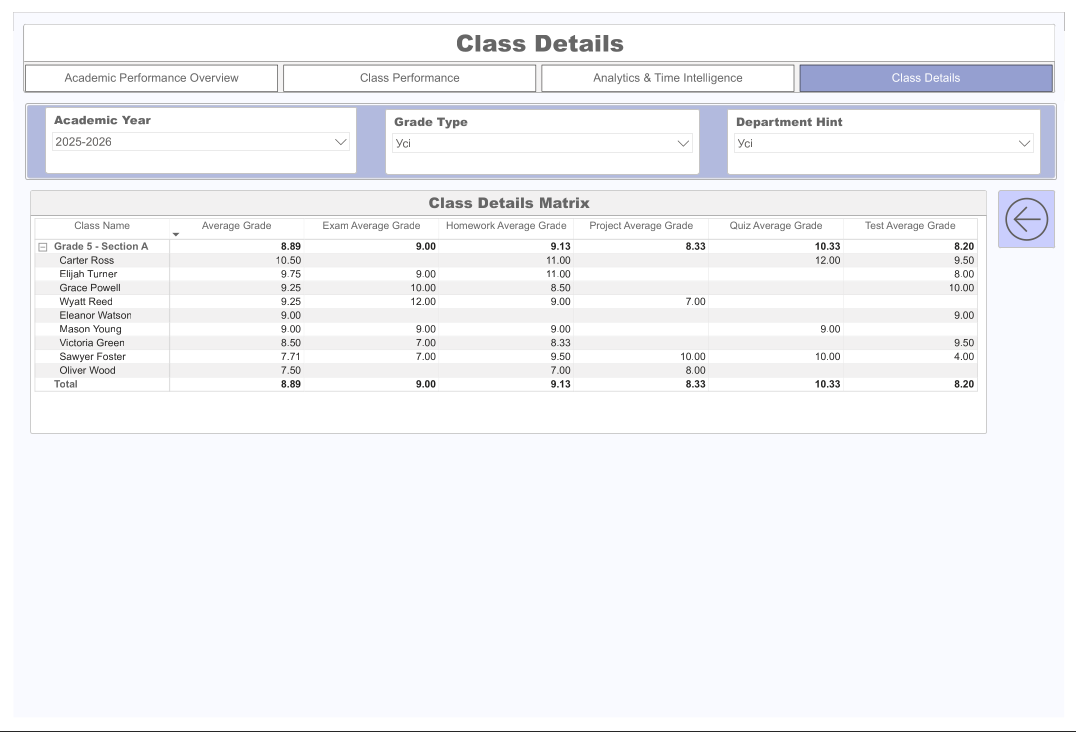

The page's visual inventory and layout, read from the dashboard file:
{"tool":"powerbi","page":{"name":"Class Details","canvas":[1910,1280],"ordinal":3},"visuals":[{"type":"pivotTable","title":"Class Details Matrix","fields":{"Rows":["classes.class_name","students.student_name"],"Values":["_Measures.Average Grade","_Measures.Exam Average Grade","_Measures.Homework Average Grade","_Measures.Project Average Grade","_Measures.Quiz Average Grade","_Measures.Test Average Grade"]},"box":[30.8,323.1,1738.5,442.3],"z":0},{"type":"actionButton","box":[1790,322.5,102.5,105],"z":1000},{"type":"pageNavigator","title":"Class Details","box":[19.2,21.2,1874,125],"z":2000},{"type":"shape","box":[21.6,164.7,1874.5,139.2],"z":3000},{"type":"slicer","fields":{"Values":["grades.grade_type"]},"box":[676.5,174.5,570.6,119.6],"z":4000},{"type":"slicer","fields":{"Values":["subjects.department_hint"]},"box":[1297.2,175,569.4,119.4],"z":5000},{"type":"slicer","fields":{"Values":["periods.academic_year"]},"box":[58.3,172.2,566.7,119.4],"z":6000}]}

Visuals, with their boxes in screenshot pixels (x1, y1, x2, y2), scaled from the page's 1910x1280 canvas onto the 1076x732 screenshot:
"Class Details Matrix" pivotTable: <region>17, 185, 997, 438</region>
actionButton: <region>1008, 184, 1066, 244</region>
"Class Details" pageNavigator: <region>11, 12, 1067, 84</region>
shape: <region>12, 94, 1068, 174</region>
slicer - grades.grade_type: <region>381, 100, 703, 168</region>
slicer - subjects.department_hint: <region>731, 100, 1052, 168</region>
slicer - periods.academic_year: <region>33, 98, 352, 167</region>
